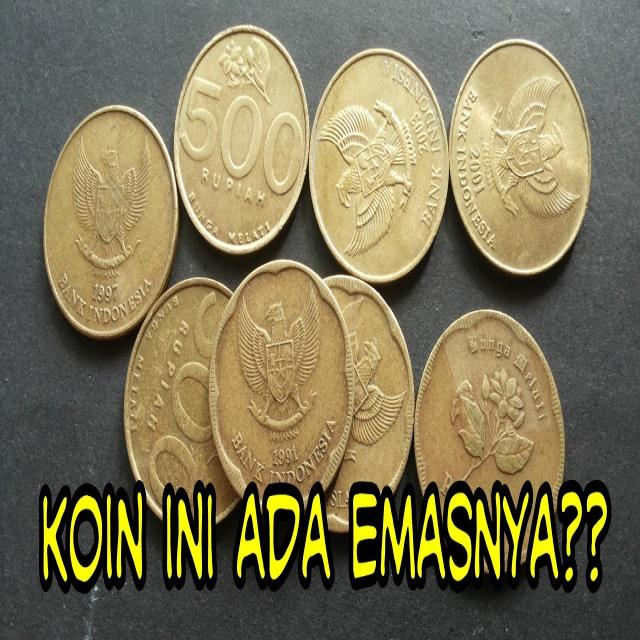500-kuning: (173, 15, 309, 257)
